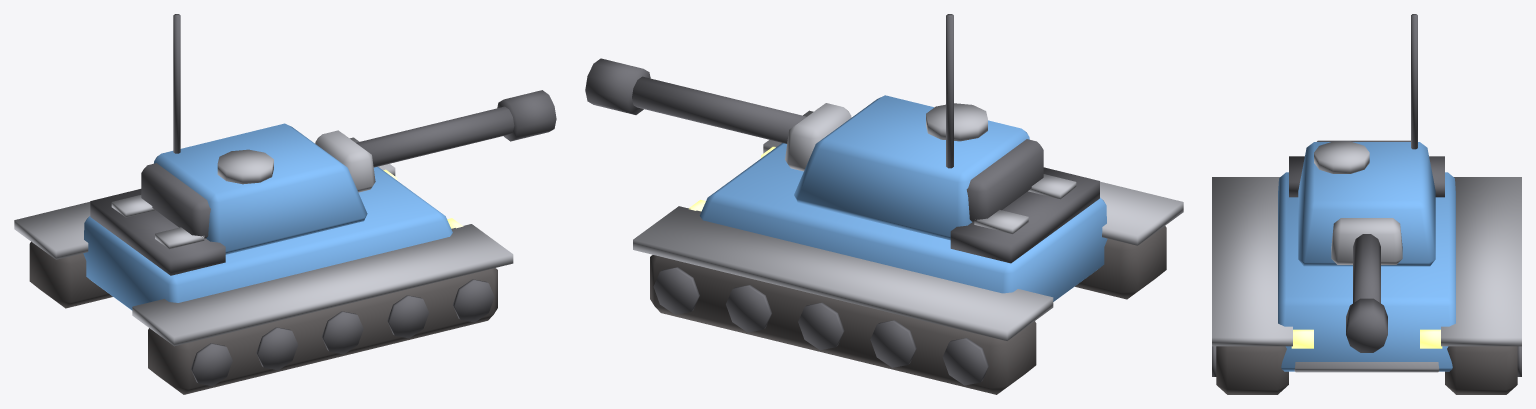
The model's file is tank.glb.
3 views of the same model, side by side, from view 1: azimuth 30°, elevation 25°; view 2: azimuth 150°, elevation 25°; view 3: azimuth 270°, elevation 25° (orthographic). The views are drawn at different scales.
Parts seen in each view (by area): view 1: body, turret; view 2: body, turret; view 3: body, turret.
Boxes of the visible parts, x1,y1,x2,y2 form: body: (14,137,513,394); turret: (141,14,556,254); body: (633,110,1183,394); turret: (585,14,1043,240); body: (1212,156,1521,394); turret: (1298,14,1435,352).
Size of the model in its own units: 0.905 by 0.55 by 0.555.
